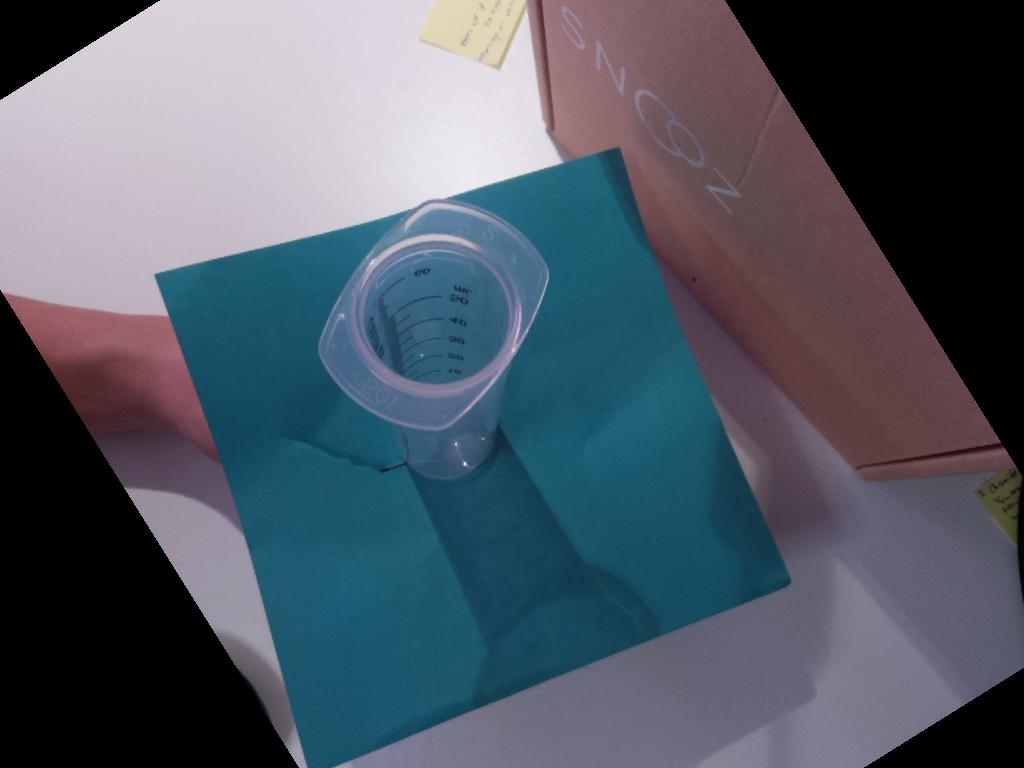clean: (316, 201, 551, 432)
